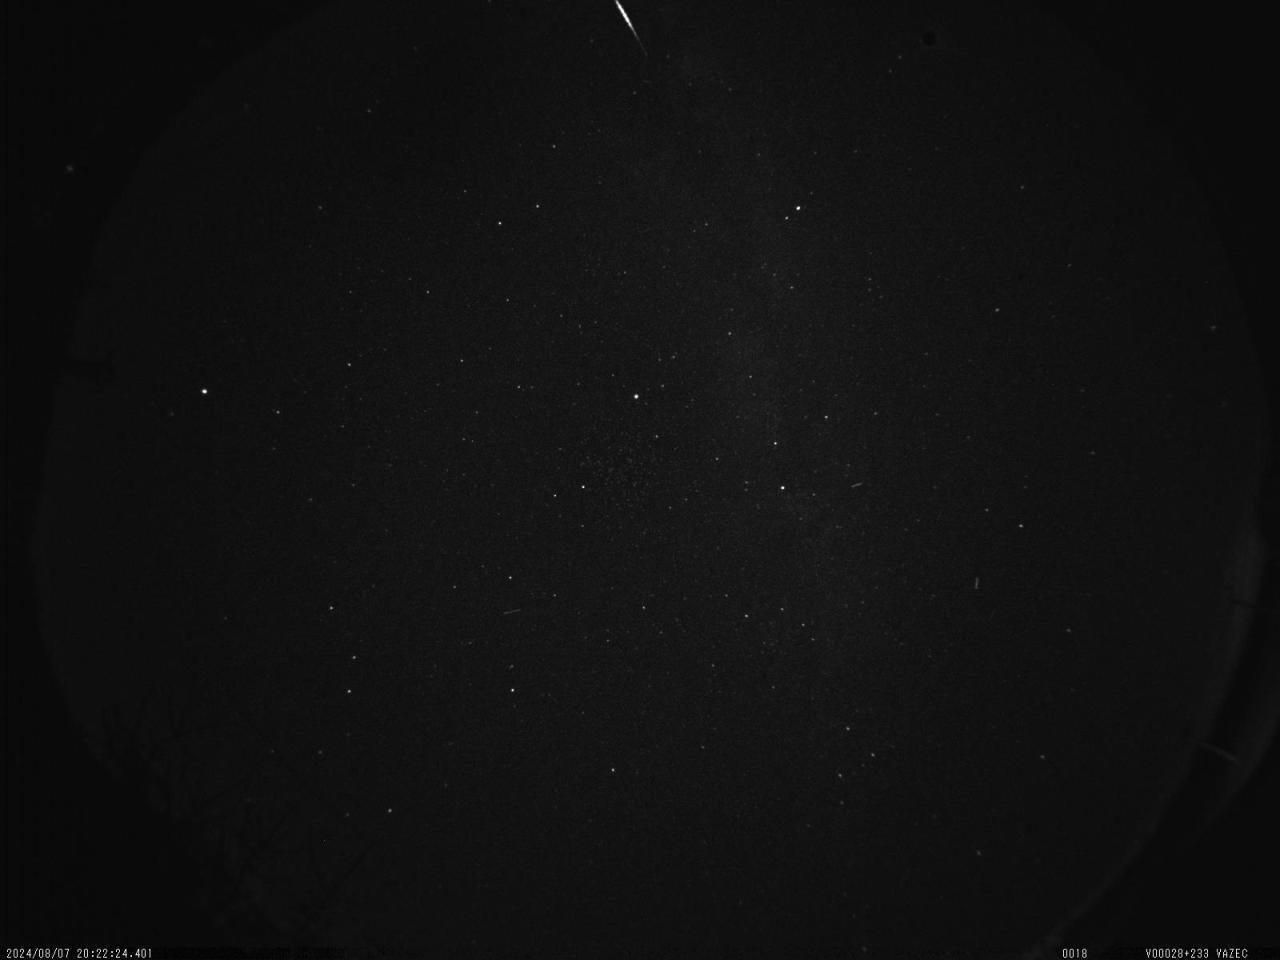Meteor: (607, 0, 649, 56)
